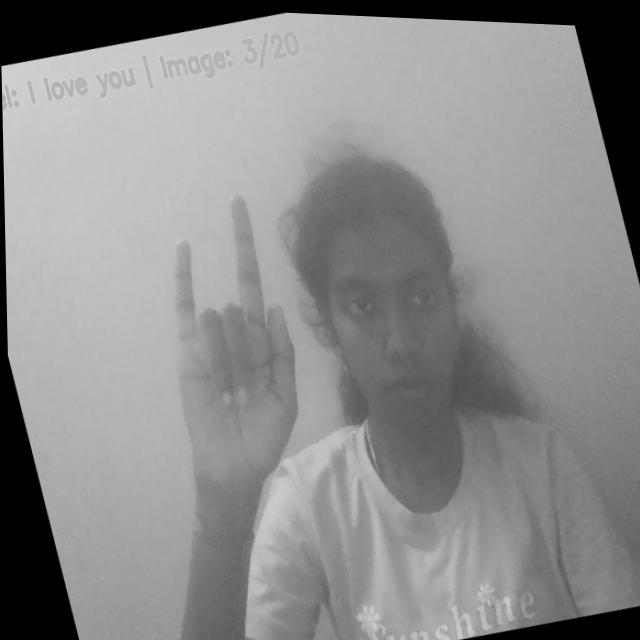I love you: (126, 186, 319, 494)
